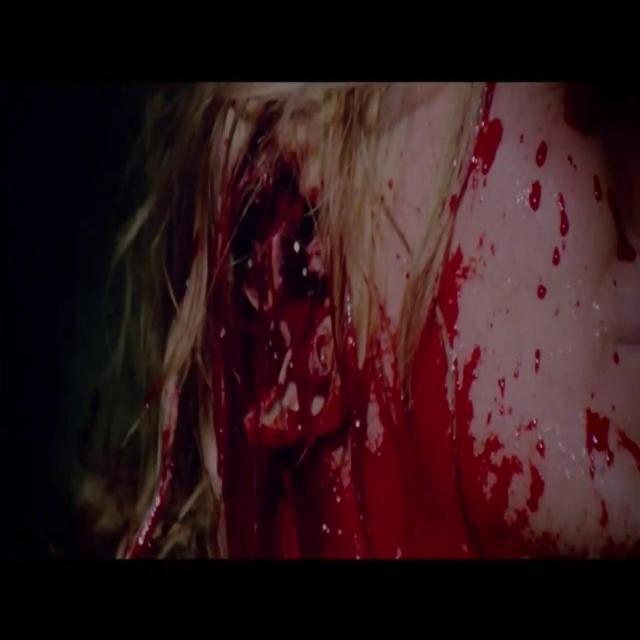flood: (219, 150, 512, 564)
